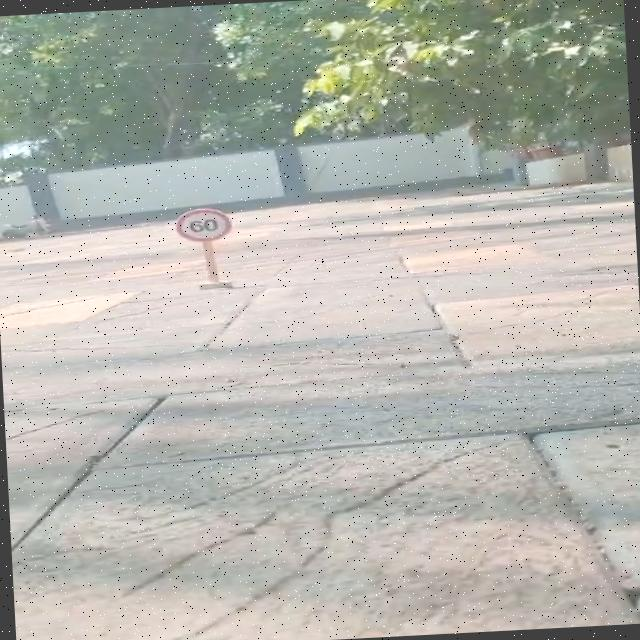Speed60: (165, 201, 247, 250)
